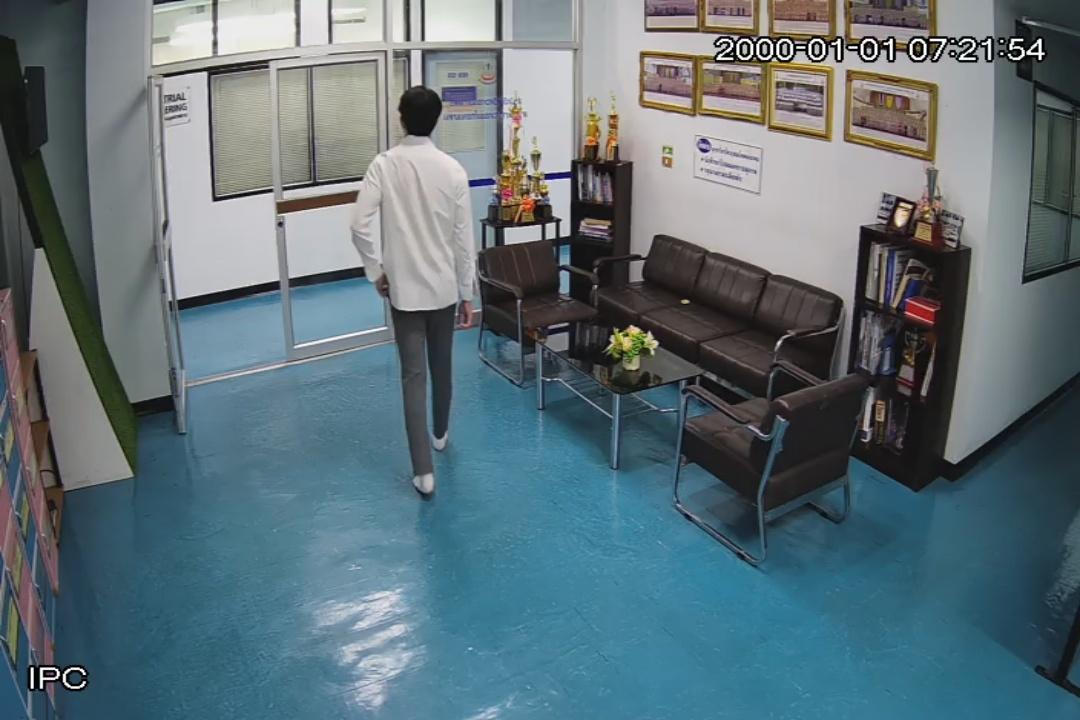normal: (358, 88, 480, 504)
